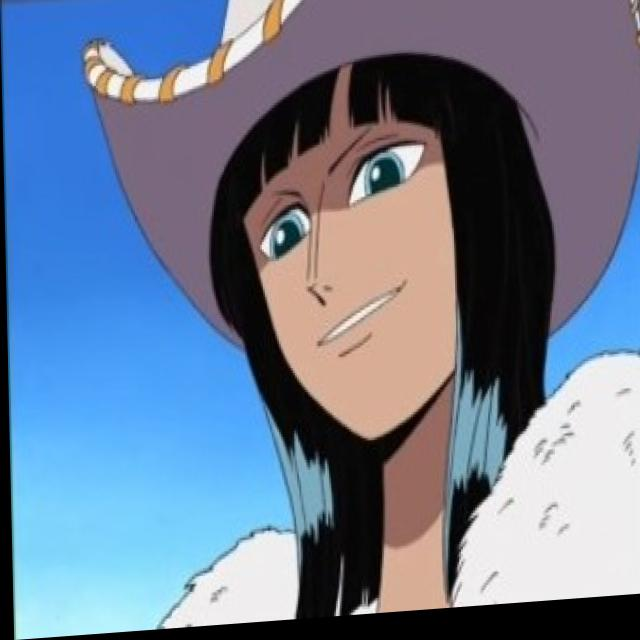NicoRobin: (153, 0, 572, 425)
